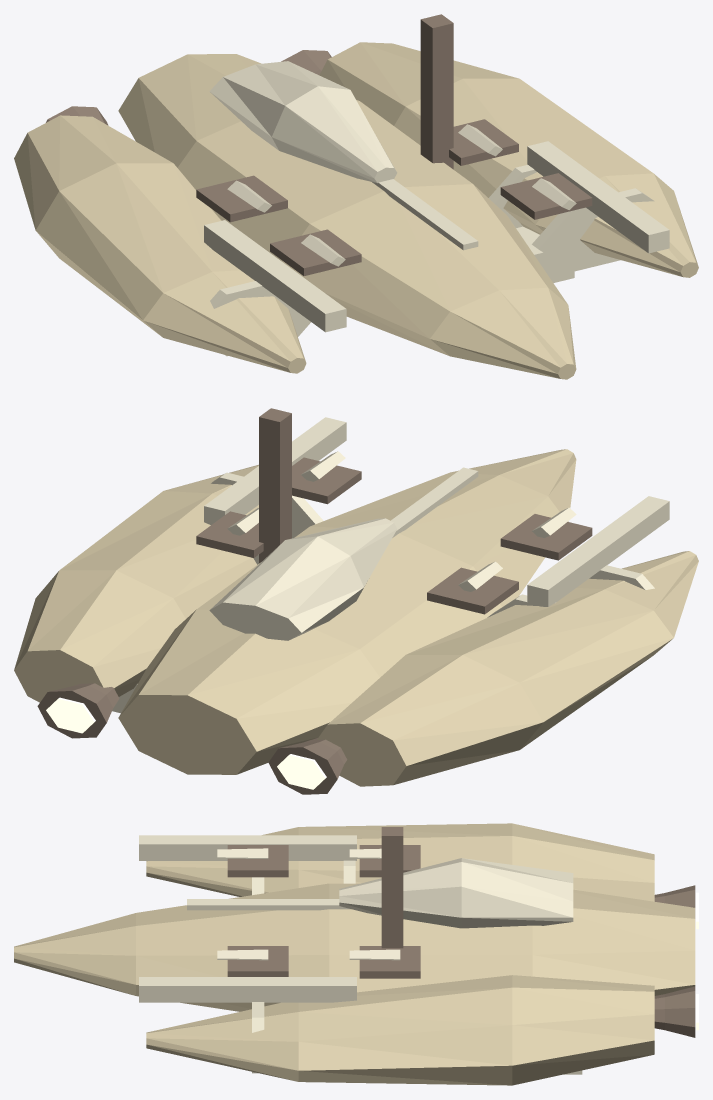
3 renders of one model, top to bottom at view 1: azimuth 30°, elevation 25°; view 2: azimuth 150°, elevation 25°; view 3: azimuth 270°, elevation 25°, orthographic. The views are drawn at different scales.
Bounding box in the file's own units: 12.12 × 5.07 × 15.08.
